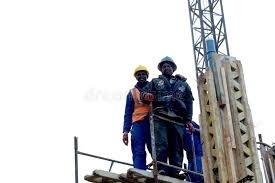helmet: (157, 54, 178, 73), (132, 62, 151, 78)
person with full safety: (122, 62, 153, 170)
person with partial safety: (148, 55, 193, 171)
safety vest: (128, 87, 152, 123)
